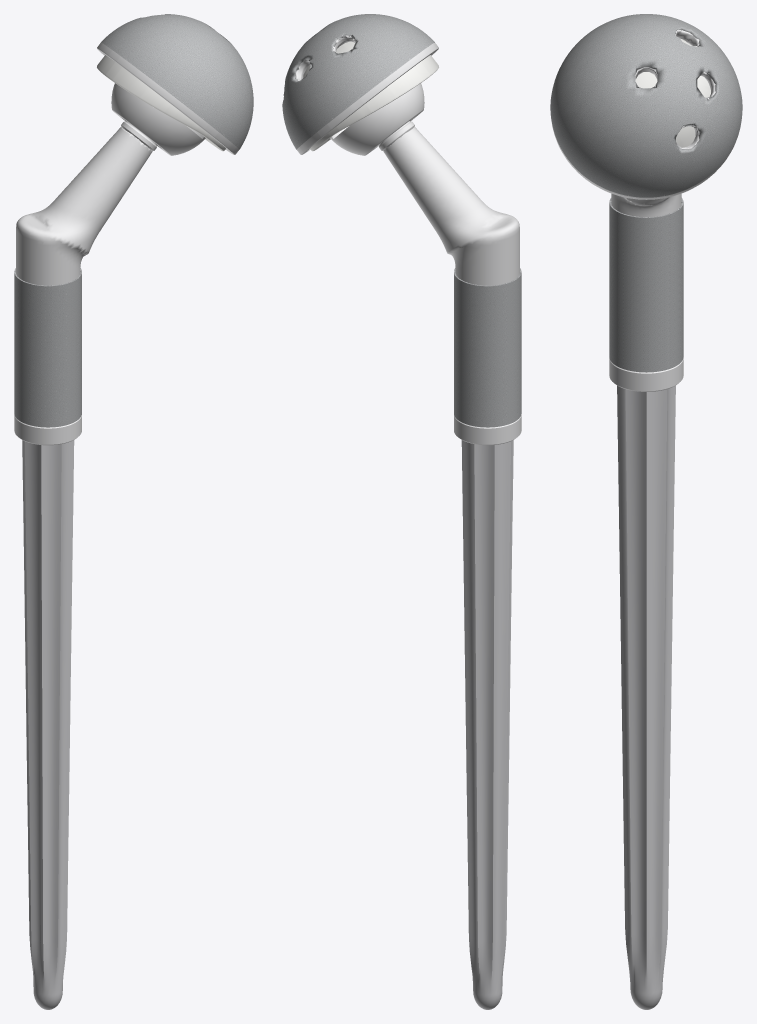
The model's file is revision_metal_lod1.glb.
3 renders of one model, left to right at view 1: azimuth 30°, elevation 25°; view 2: azimuth 150°, elevation 25°; view 3: azimuth 270°, elevation 25°, orthographic. The views are drawn at different scales.
Visible parts, largest first — view 1: stem, cup.003, head.002, liner.001; view 2: stem, cup.003, head.002, liner.001; view 3: stem, cup.003, liner.001.
Boxes of the visible parts, x1,y1,x2,y2 form: stem: (14,121,156,1009); cup.003: (97,14,253,154); head.002: (111,83,205,155); liner.001: (97,55,225,151); stem: (379,121,521,1009); cup.003: (282,14,438,154); head.002: (330,83,424,155); liner.001: (303,38,438,151); stem: (609,193,683,1009); cup.003: (550,14,742,199); liner.001: (635,38,710,147).
Bounding box in the file's own units: 0.076 × 0.312 × 0.0518.
Materials: 5 (1 with a texture image).
